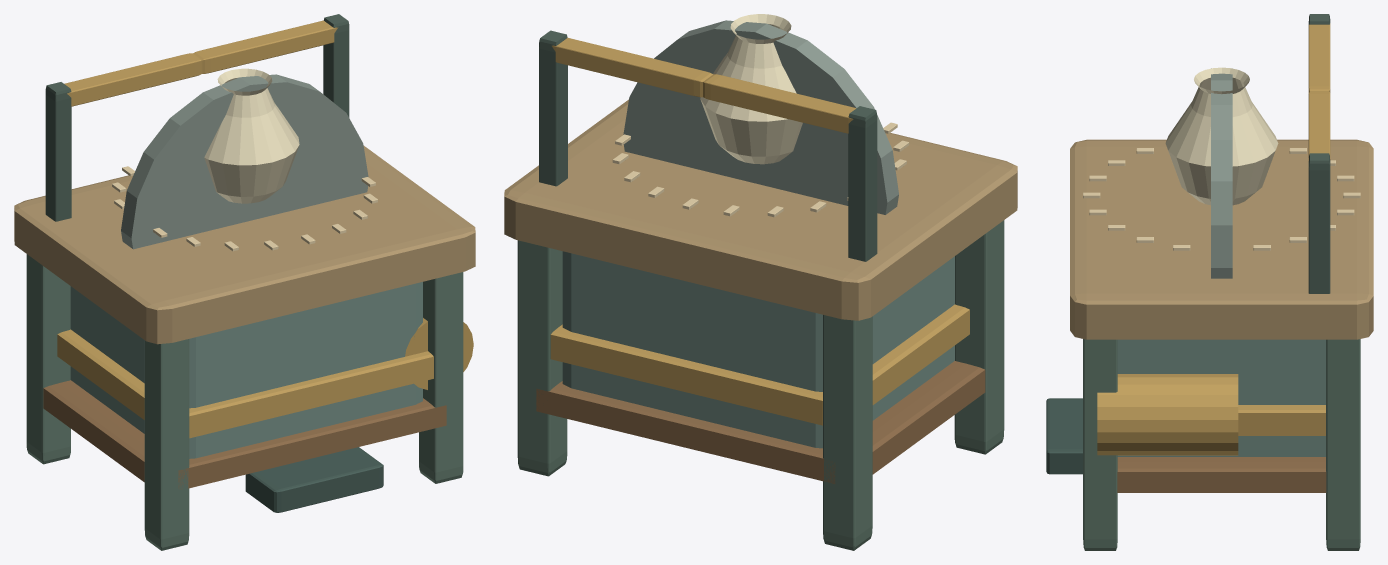
File: wheel.glb
The picture shows the model from 3 angles, left to right: view 1: azimuth 30°, elevation 25°; view 2: azimuth 150°, elevation 25°; view 3: azimuth 270°, elevation 25°; orthographic projection. The views are drawn at different scales.
Parts seen in each view (by area): view 1: wheel-table-top-000, wheel-wheel-body-006, wheel-wheel-head-007, wheel-table-shelf-005, wheel-wheel-guard-010, wheel-table-leg-002, wheel-wheel-vase-008, wheel-table-leg-004, wheel-table-leg-001, wheel-wheel-pedal-009, wheel-wheel-arm-031, wheel-wheel-bar-034 (+3 smaller); view 2: wheel-table-top-000, wheel-wheel-body-006, wheel-wheel-head-007, wheel-table-shelf-005, wheel-wheel-guard-010, wheel-table-leg-001, wheel-table-leg-003, wheel-table-leg-002, wheel-wheel-vase-008, wheel-wheel-arm-031, wheel-wheel-bar-034, wheel-wheel-bar-032 (+1 smaller); view 3: wheel-table-top-000, wheel-wheel-body-006, wheel-wheel-wheel-035, wheel-wheel-vase-008, wheel-table-shelf-005, wheel-table-leg-003, wheel-table-leg-004, wheel-wheel-head-007, wheel-wheel-arm-033, wheel-wheel-pedal-009, wheel-wheel-guard-010, wheel-wheel-bar-032 (+1 smaller).
Boxes of the visible parts, <box> form: wheel-table-top-000: <box>14,146,475,344</box>; wheel-wheel-body-006: <box>70,282,422,458</box>; wheel-wheel-head-007: <box>121,74,368,249</box>; wheel-table-shelf-005: <box>43,380,446,489</box>; wheel-wheel-guard-010: <box>57,329,433,438</box>; wheel-table-leg-002: <box>144,339,189,550</box>; wheel-wheel-vase-008: <box>204,68,299,203</box>; wheel-table-leg-004: <box>419,272,463,483</box>; wheel-table-leg-001: <box>26,254,70,464</box>; wheel-wheel-pedal-009: <box>245,447,383,512</box>; wheel-wheel-arm-031: <box>45,82,71,221</box>; wheel-wheel-bar-034: <box>193,20,337,73</box>; wheel-table-top-000: <box>504,99,1017,320</box>; wheel-wheel-body-006: <box>562,251,954,448</box>; wheel-wheel-head-007: <box>623,20,898,214</box>; wheel-table-shelf-005: <box>536,361,985,483</box>; wheel-wheel-guard-010: <box>550,304,969,425</box>; wheel-table-leg-001: <box>823,315,872,550</box>; wheel-table-leg-003: <box>517,240,567,476</box>; wheel-table-leg-002: <box>954,220,1004,454</box>; wheel-wheel-vase-008: <box>700,14,802,164</box>; wheel-wheel-arm-031: <box>848,106,877,261</box>; wheel-wheel-bar-034: <box>552,38,712,97</box>; wheel-wheel-bar-032: <box>703,74,856,133</box>; wheel-table-top-000: <box>1070,139,1373,339</box>; wheel-wheel-body-006: <box>1117,339,1325,456</box>; wheel-wheel-wheel-035: <box>1097,374,1238,455</box>; wheel-wheel-vase-008: <box>1165,67,1278,205</box>; wheel-table-shelf-005: <box>1117,457,1326,492</box>; wheel-table-leg-003: <box>1326,339,1360,550</box>; wheel-table-leg-004: <box>1083,339,1117,550</box>; wheel-wheel-head-007: <box>1211,68,1232,278</box>; wheel-wheel-arm-033: <box>1308,153,1330,293</box>; wheel-wheel-pedal-009: <box>1046,398,1082,474</box>; wheel-wheel-guard-010: <box>1238,405,1325,435</box>; wheel-wheel-bar-032: <box>1308,23,1330,93</box>.
Bounding box in the file's own units: 1.82 × 2.01 × 1.51.
